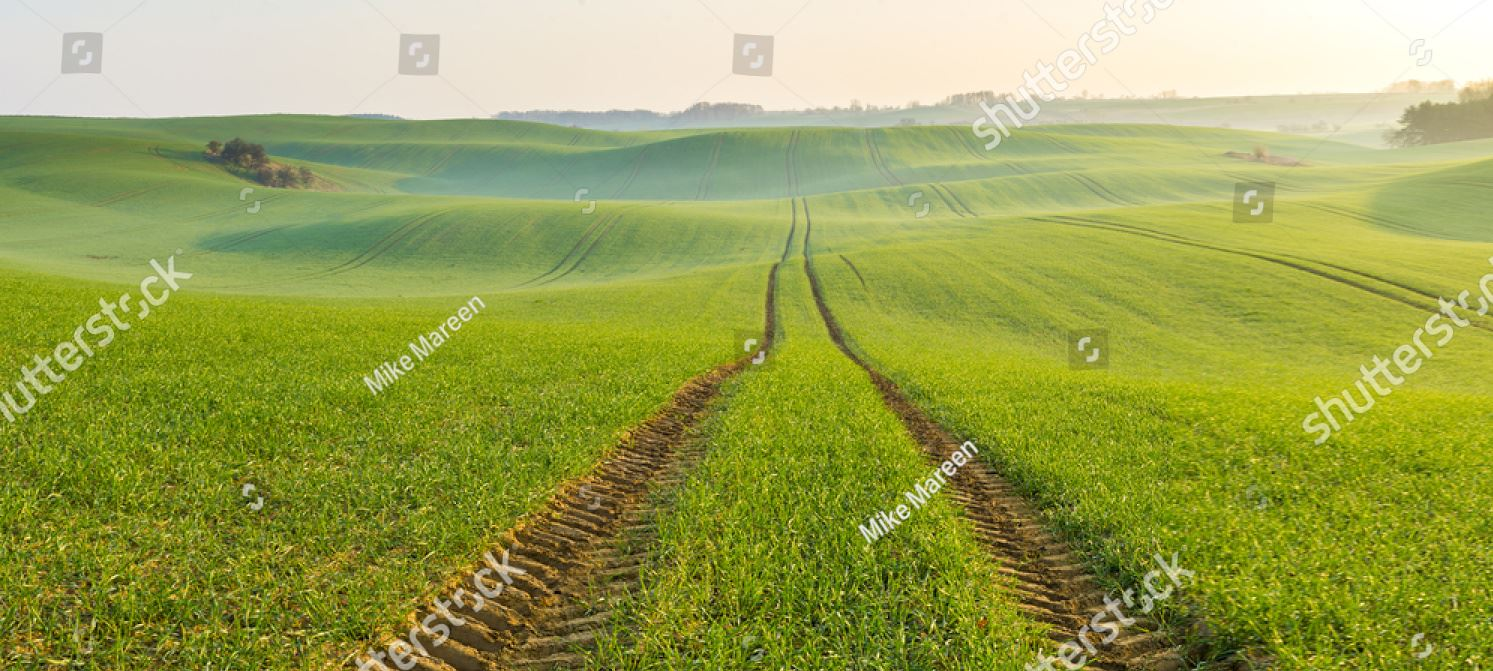Wheat: (694, 459, 861, 671)
